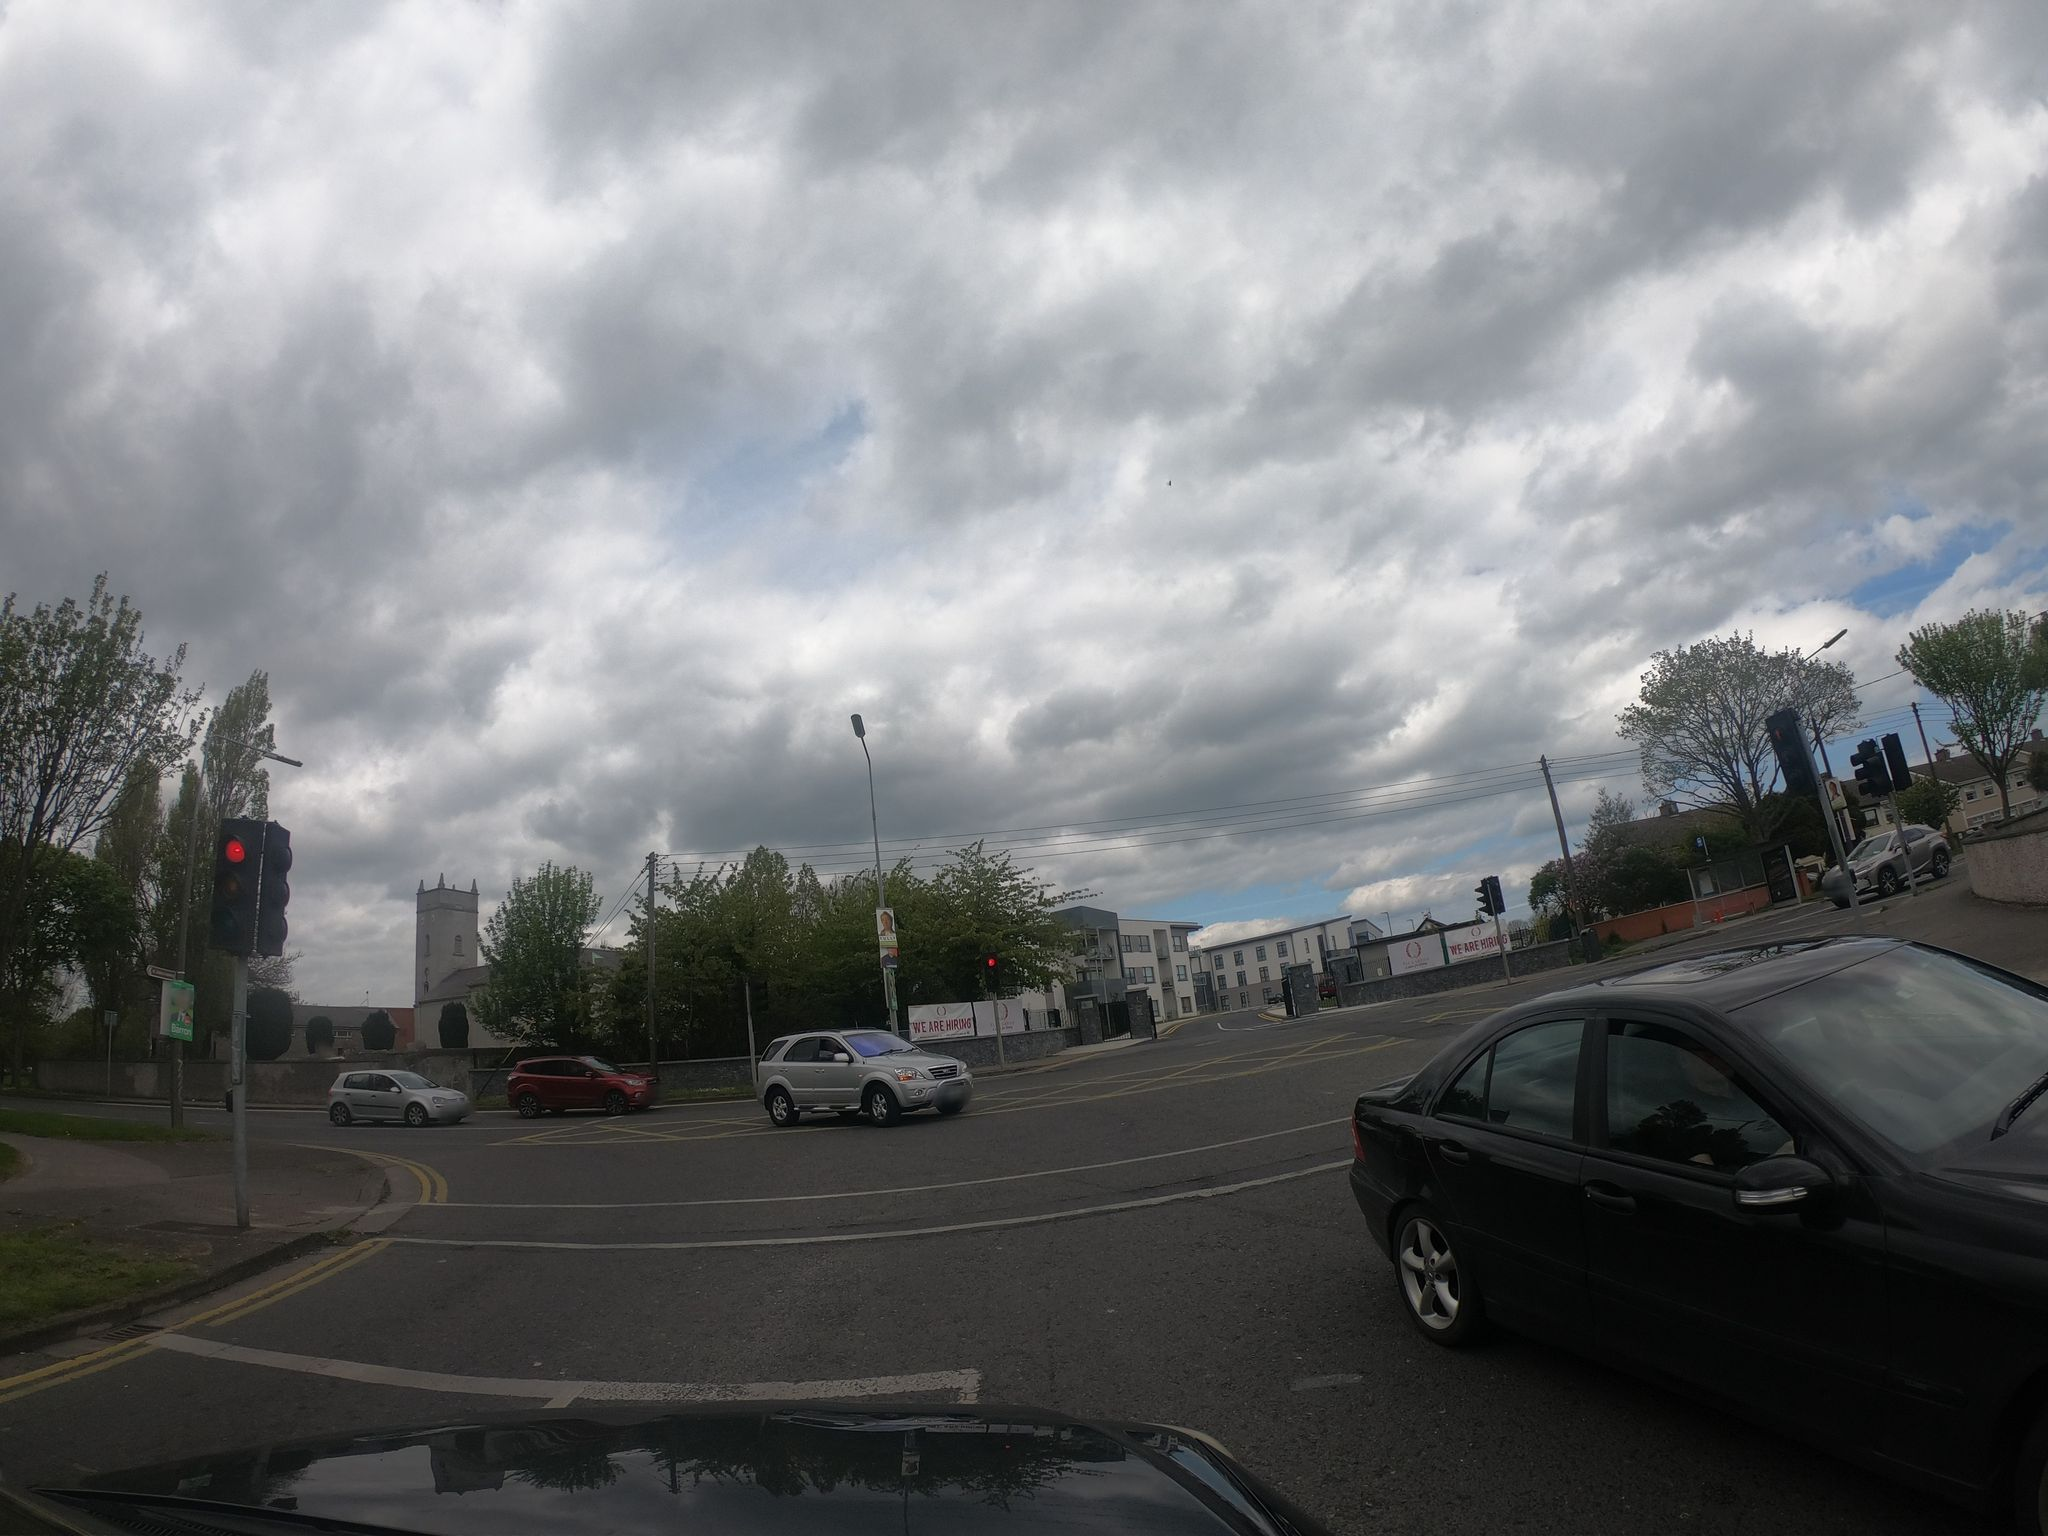vinyl banner: (898, 981, 984, 1046), (1448, 916, 1513, 968)
